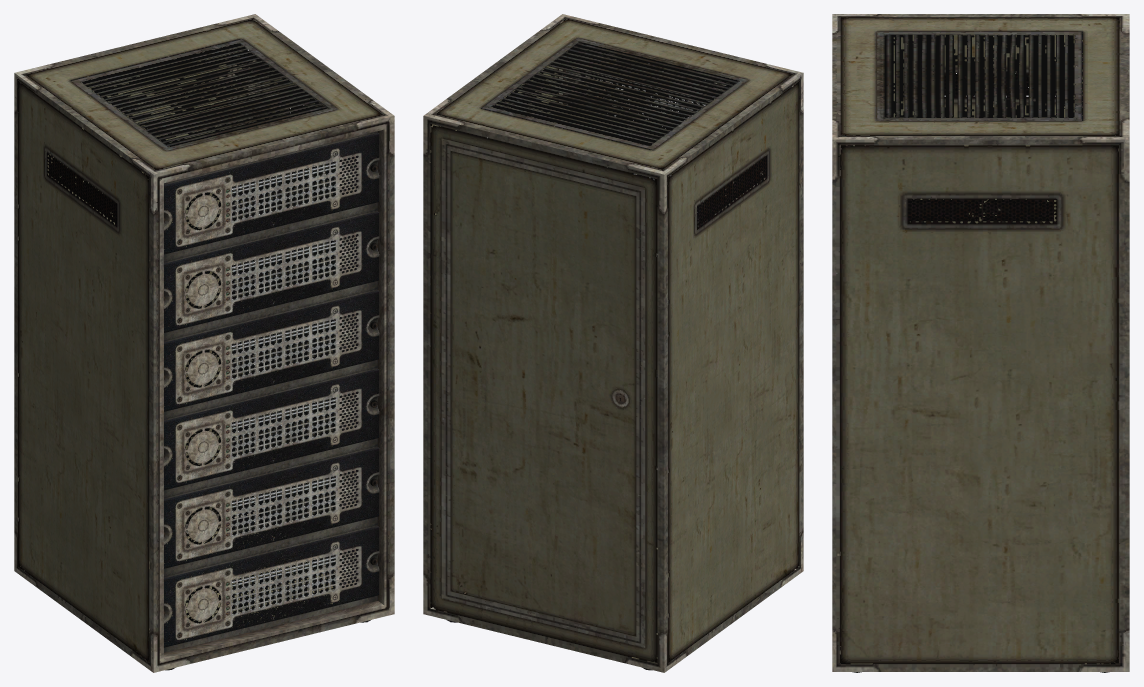
File: server_rack01.dae
The picture shows the model from 3 angles, left to right: view 1: azimuth 30°, elevation 25°; view 2: azimuth 150°, elevation 25°; view 3: azimuth 270°, elevation 25°; orthographic projection. The views are drawn at different scales.
Parts seen in each view (by area): view 1: polySurface66; view 2: polySurface66; view 3: polySurface66.
Part boxes in pixels (x1,y1,x2,y2): polySurface66: (14, 14, 394, 672); polySurface66: (423, 14, 803, 672); polySurface66: (832, 14, 1129, 672).
Bounding box in the file's own units: 1.13 × 2.25 × 1.12.
